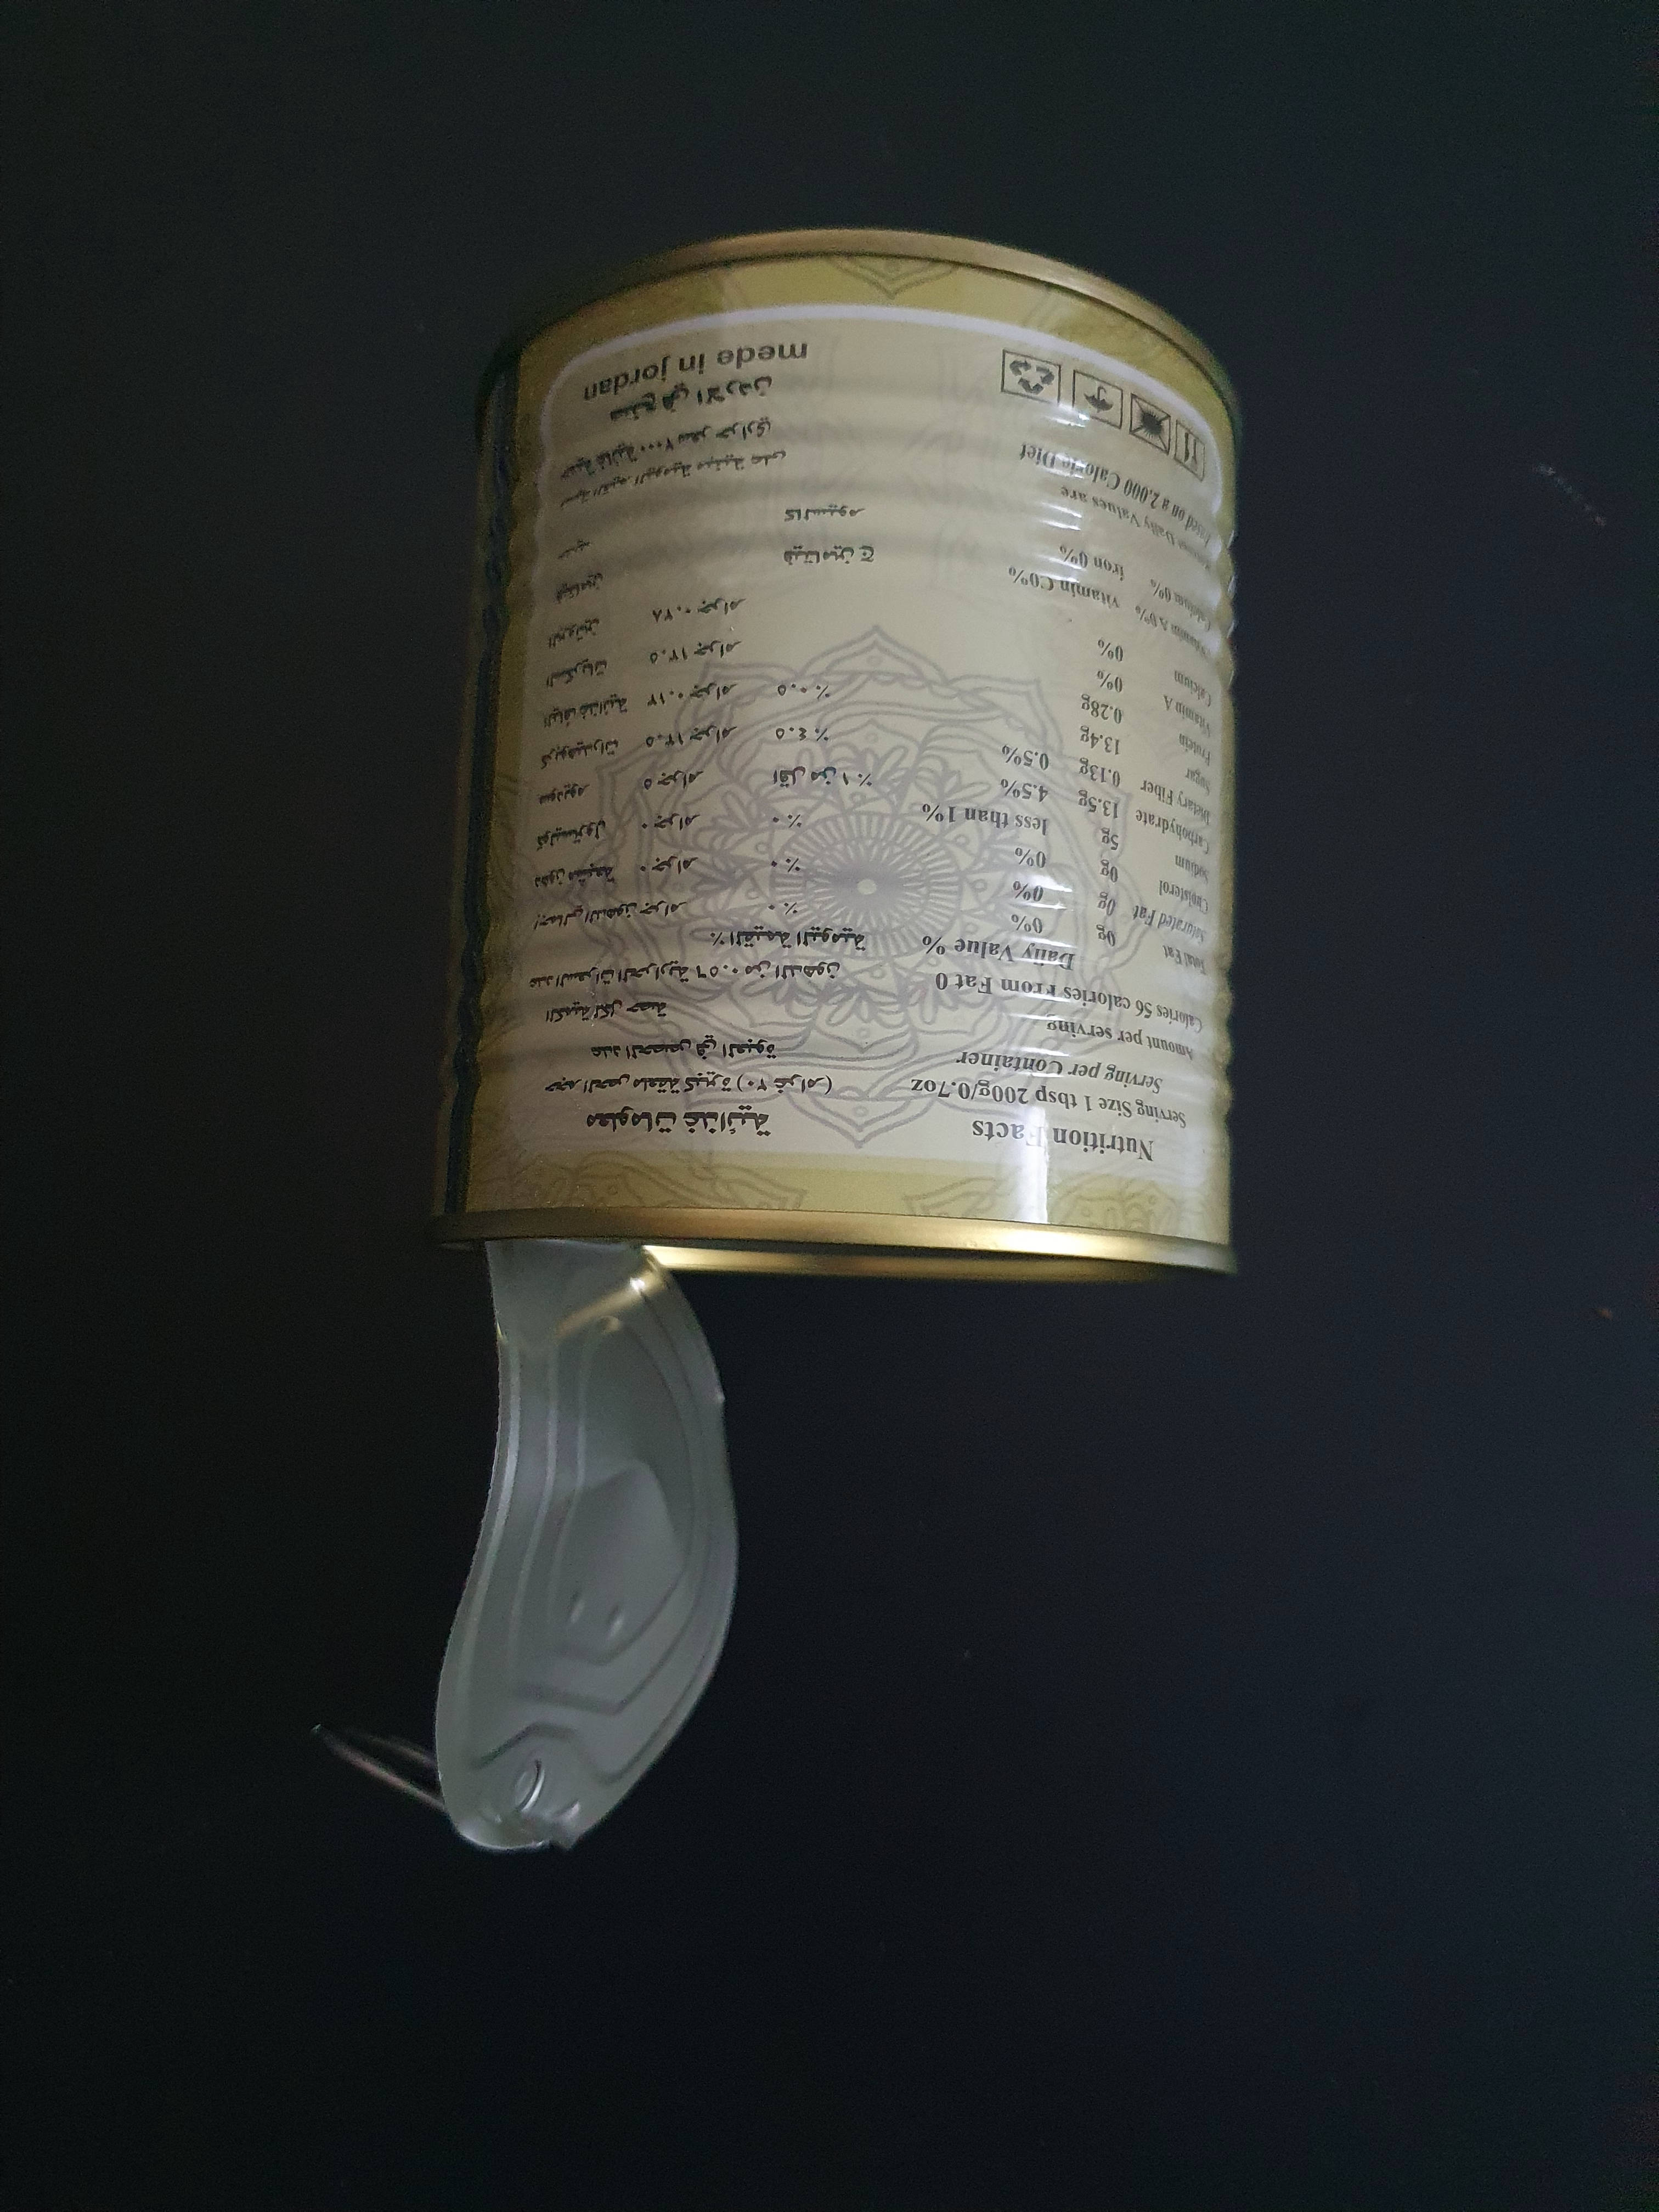metal: (314, 178, 1304, 1928)
